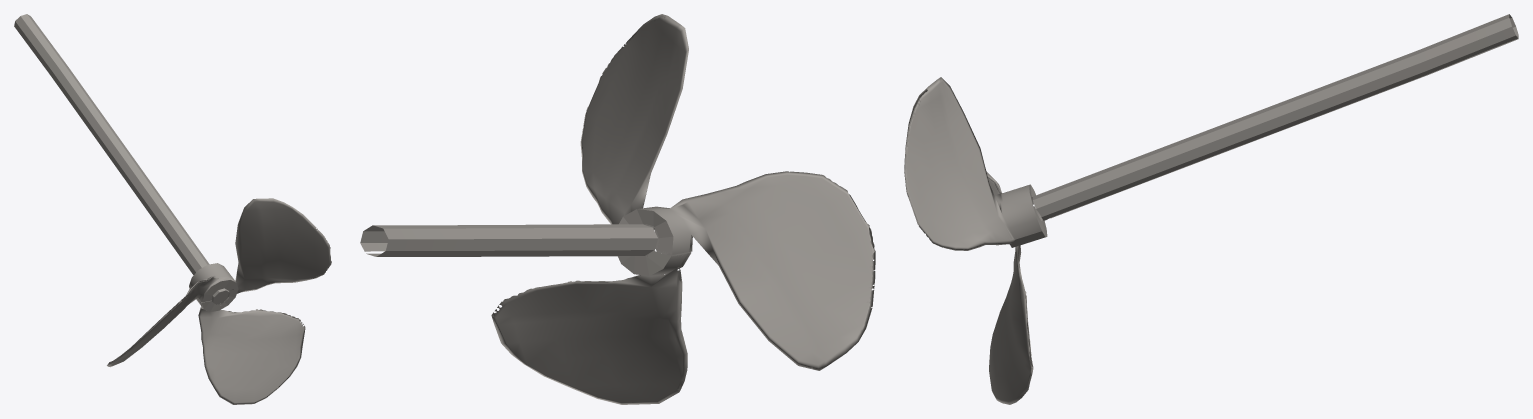
File: propeller_wAnim.fbx
3 renders of one model, left to right at view 1: azimuth 30°, elevation 25°; view 2: azimuth 150°, elevation 25°; view 3: azimuth 270°, elevation 25°, orthographic. The views are drawn at different scales.
Visible parts, largest first — view 1: boat_propeller; view 2: boat_propeller; view 3: boat_propeller.
Part boxes in pixels (x1=…): boat_propeller: x1=14, y1=14, x2=331, y2=404; boat_propeller: x1=360, y1=14, x2=875, y2=404; boat_propeller: x1=904, y1=14, x2=1518, y2=404.
Bounding box in the file's own units: 31.81 × 37.13 × 58.82.
Materials: 1 (1 with a texture image).
